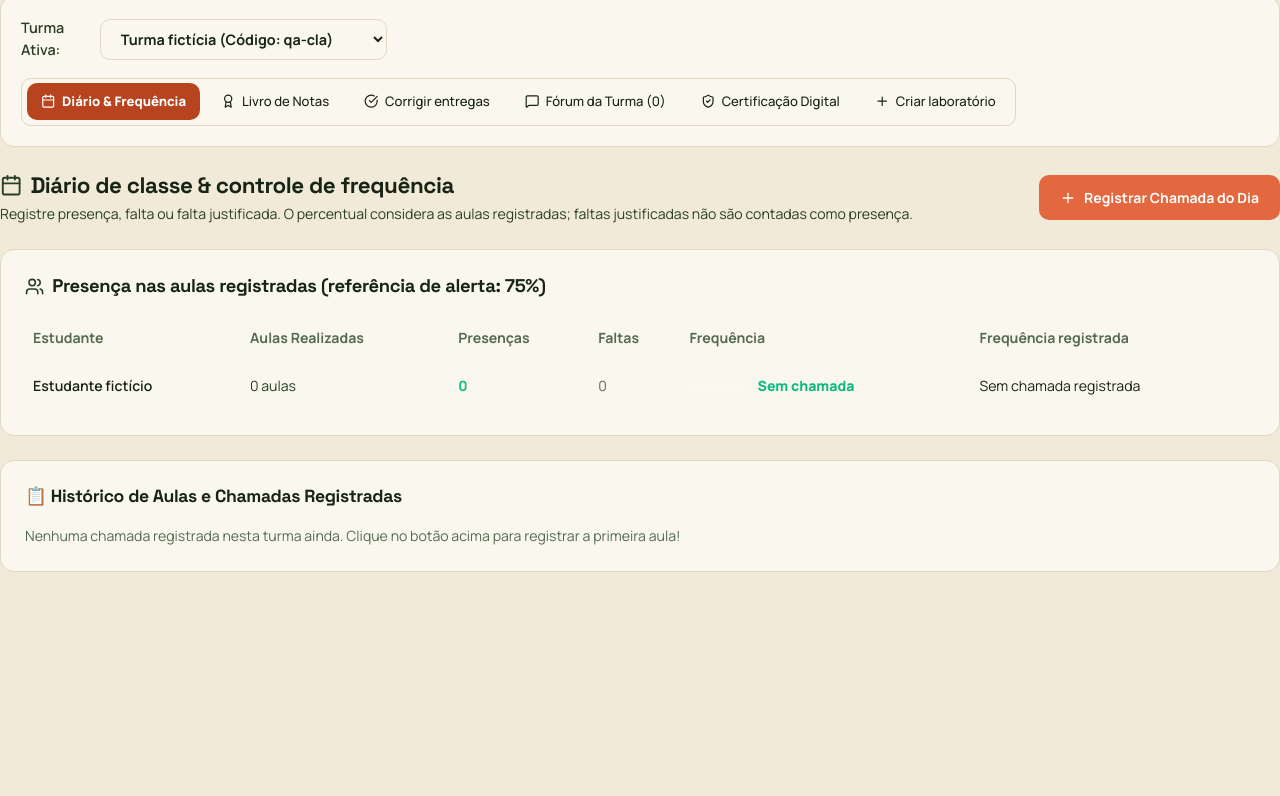
it: continuidade dos dados nos boletins e correção docente › professor vê nota zero e categorias ausentes sem média final fabricada
Expected: the text "Estudante fictício" is shown, [25,361,242,411]
Step 1. Click the button "Livro de Notas" → (275, 102), box [207,84,344,120]
(page scrolled)
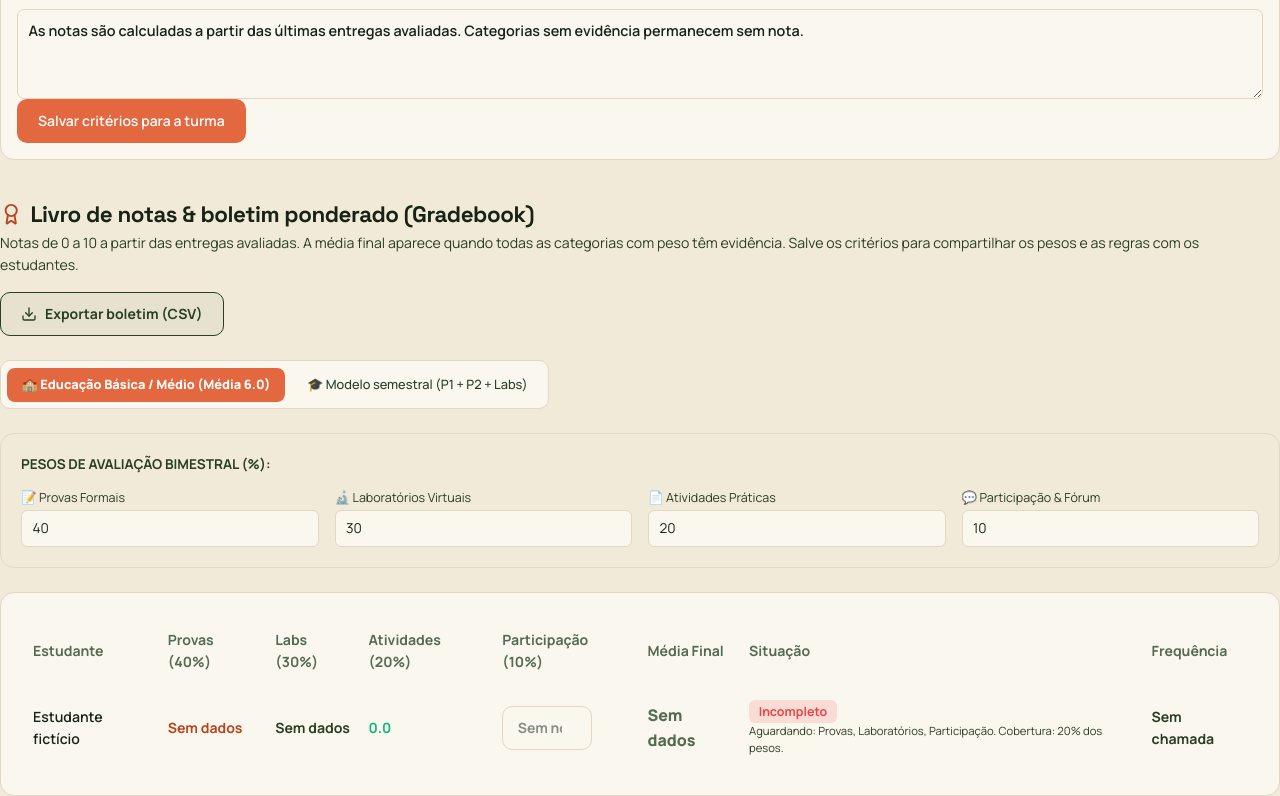
Expected: the text "0.0" is shown, [360,686,494,770]
Expected: the text "Incompleto" is shown, [749,700,837,723]
Expected: the text "Aguardando: Provas, Laboratórios, Participação" is shown, [749,722,1136,756]
